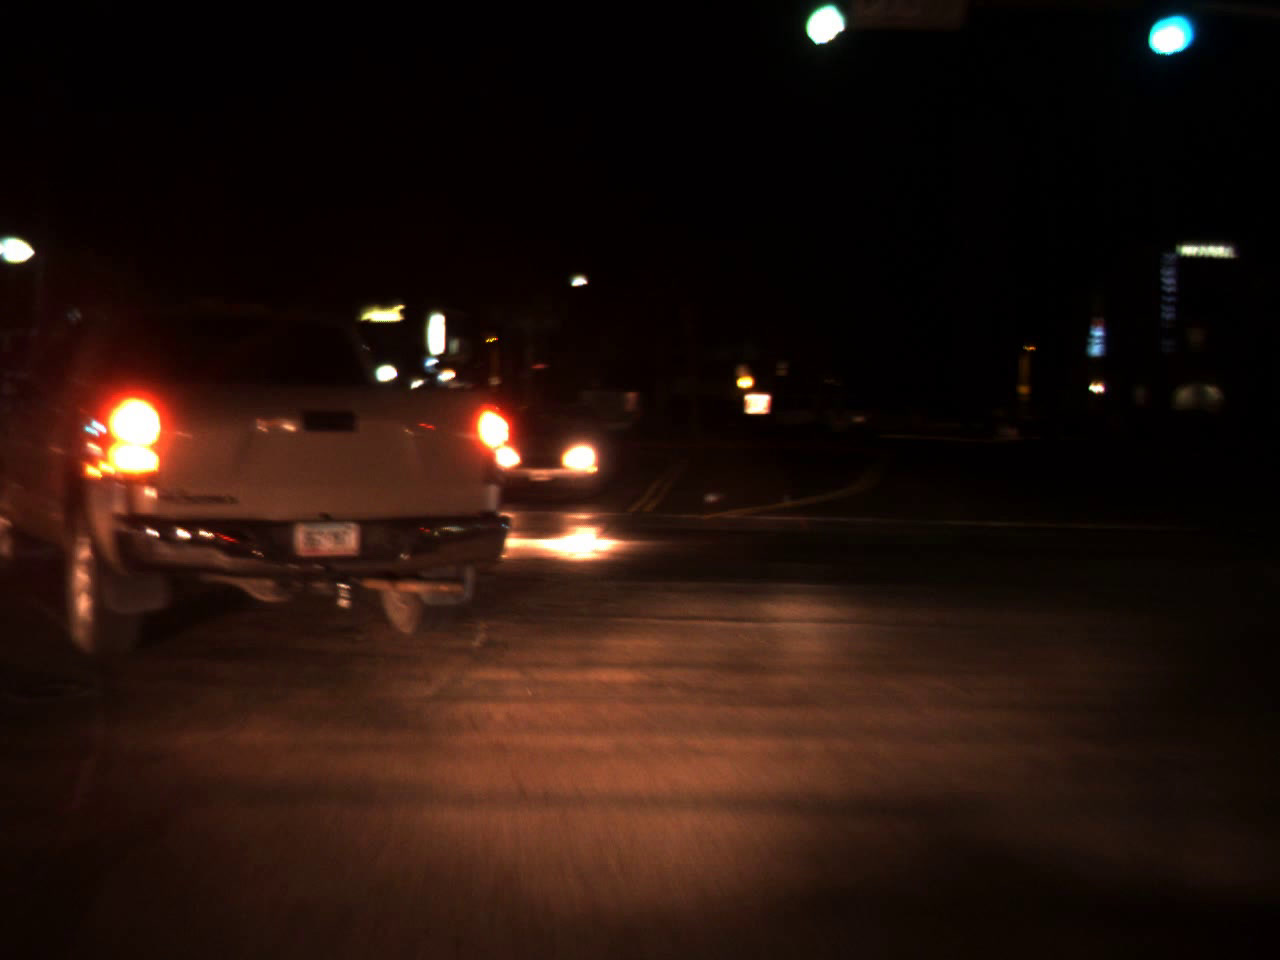go: (784, 0, 857, 61), (1139, 0, 1193, 62)
